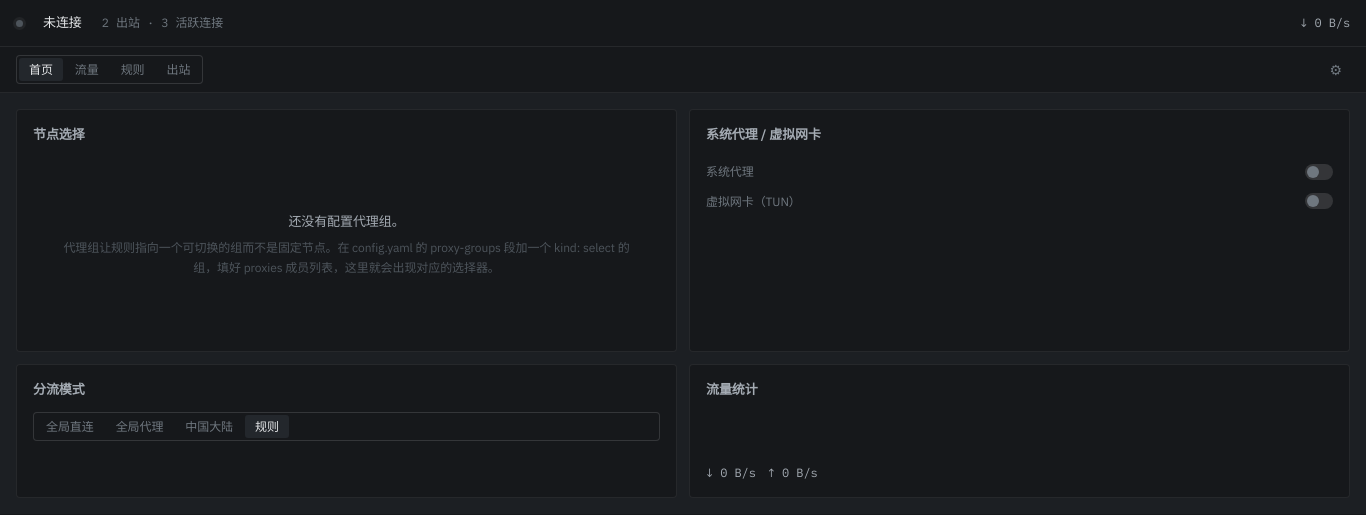
组装：未就绪的命令不该让界面垮掉 › outbound_enable 报 not-ready 时说清「开关的视觉状态不代表实际」
Click the radio button labelled "出站" at (178,70), box [156, 58, 200, 81]
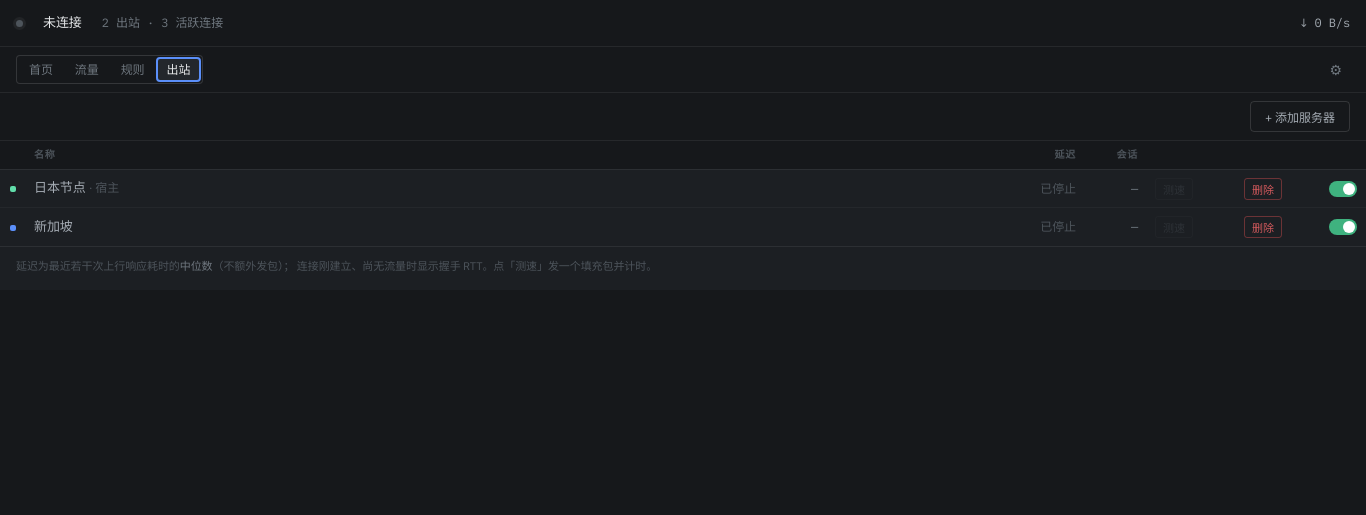
Click the switch named "启用出站 日本节点" at (1343,189), box [1329, 181, 1357, 197]
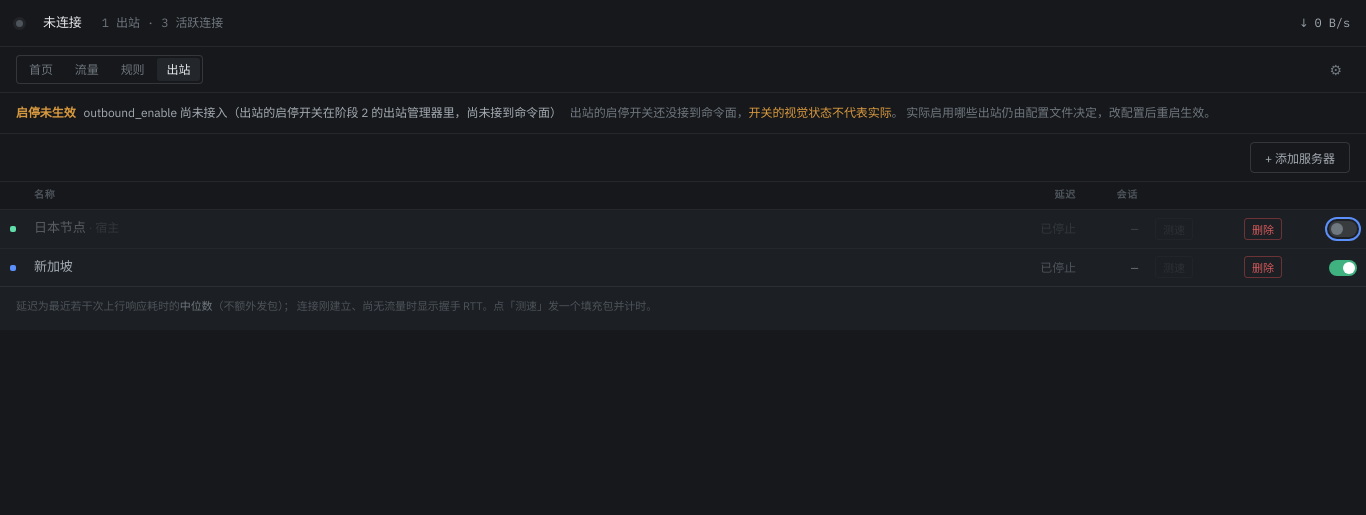
Expected: the text "启停未生效" is shown, [16, 103, 76, 123]
Expected: the text "开关的视觉状态不代表实际" is shown, [749, 105, 892, 120]
